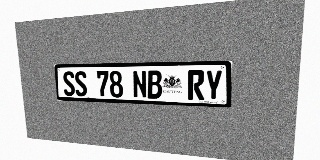7: (96, 71, 110, 97)
8: (109, 71, 123, 98)
B: (147, 70, 162, 99)
N: (132, 70, 147, 98)
R: (188, 70, 205, 100)
S: (62, 71, 76, 96), (74, 71, 88, 96)
Y: (205, 70, 223, 101)
